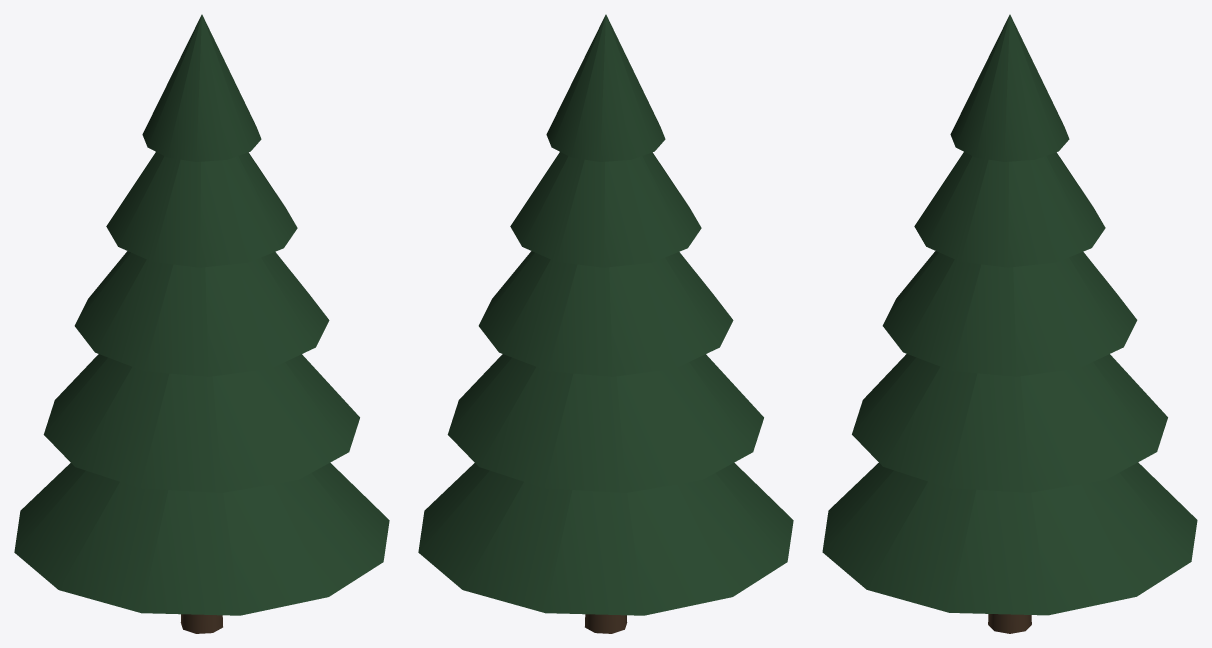
Rendered from pine-3.glb.
3 renders of one model, left to right at view 1: azimuth 30°, elevation 25°; view 2: azimuth 150°, elevation 25°; view 3: azimuth 270°, elevation 25°, orthographic.
Visible parts, largest first — view 1: pine; view 2: pine; view 3: pine.
Part boxes in pixels (bbox=[...]): pine: bbox=[14, 14, 389, 633]; pine: bbox=[418, 14, 793, 633]; pine: bbox=[822, 14, 1197, 633].
Bounding box in the file's own units: 10.35 × 18.59 × 10.35.
